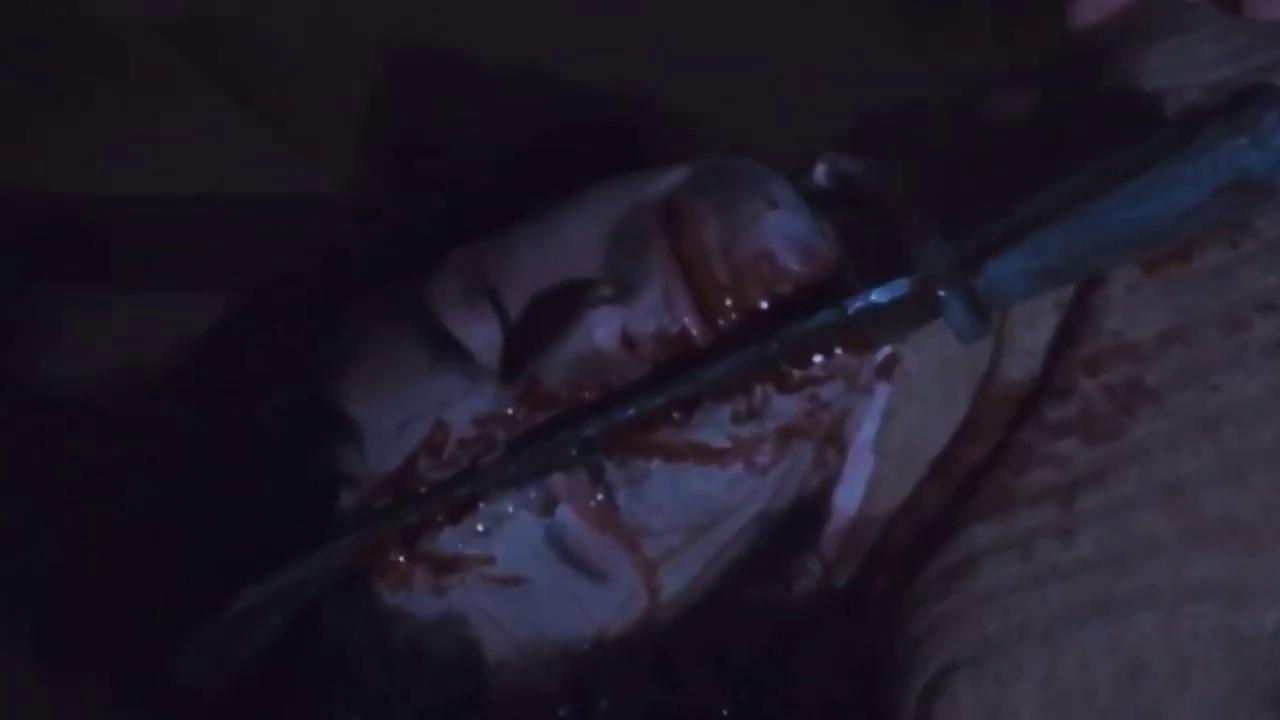Fire: (175, 160, 1280, 718)
